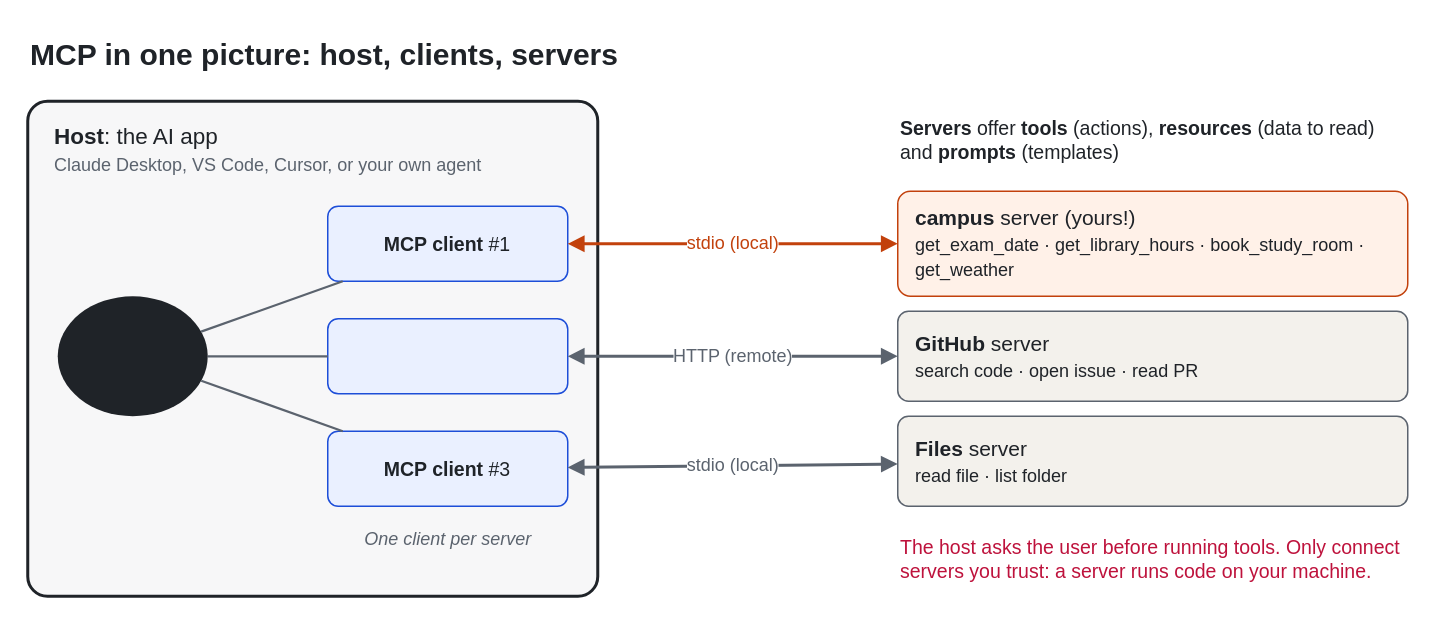
The diagram is 1434 pixels wide and 623 high, and some of its shapes have lost their labels. The shapes that lost their labels are listed below. From the top down, each one's centre as x and y in pixels, then its label:
At point (132, 356): "LLM".
At point (447, 355): "MCP client #2".
